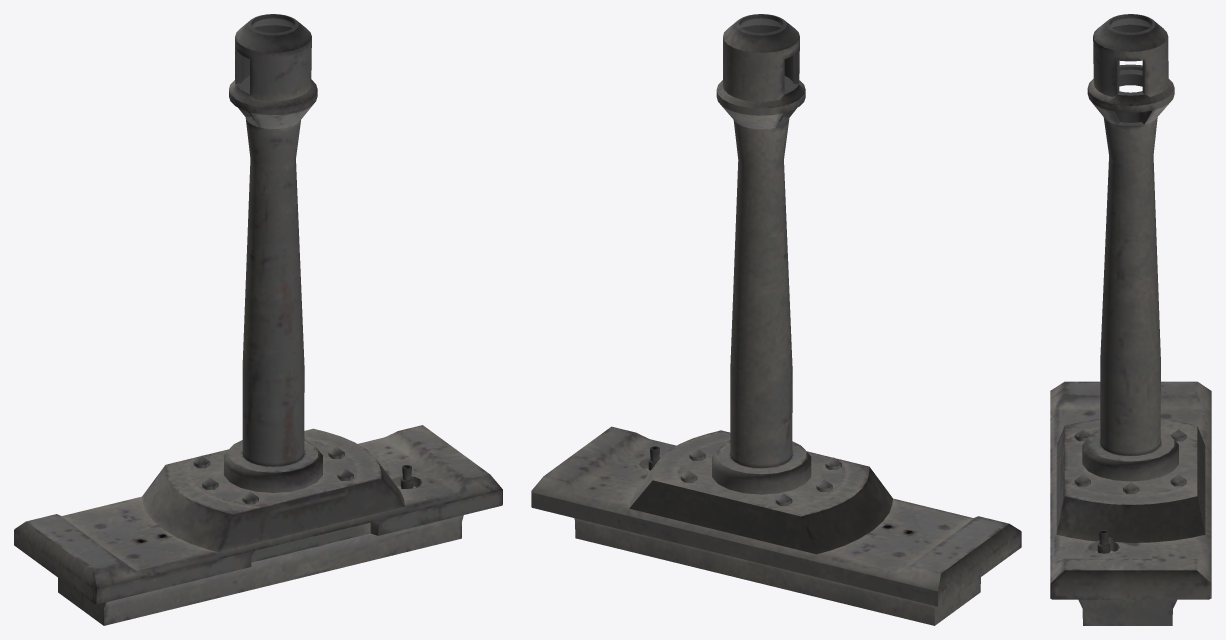
The model's file is Gun_02.glb.
The picture shows the model from 3 angles, left to right: view 1: azimuth 30°, elevation 25°; view 2: azimuth 150°, elevation 25°; view 3: azimuth 270°, elevation 25°; orthographic projection. The views are drawn at different scales.
Visible parts, largest first — view 1: set_0_group_0; view 2: set_0_group_0; view 3: set_0_group_0.
Boxes of the visible parts, box(x1,y1,x2,y2) form: set_0_group_0: box(14, 14, 502, 625); set_0_group_0: box(531, 14, 1021, 625); set_0_group_0: box(1050, 14, 1211, 625).
Bounding box in the file's own units: 1.6 × 2.01 × 0.5606.
1 material, 1 textured.
